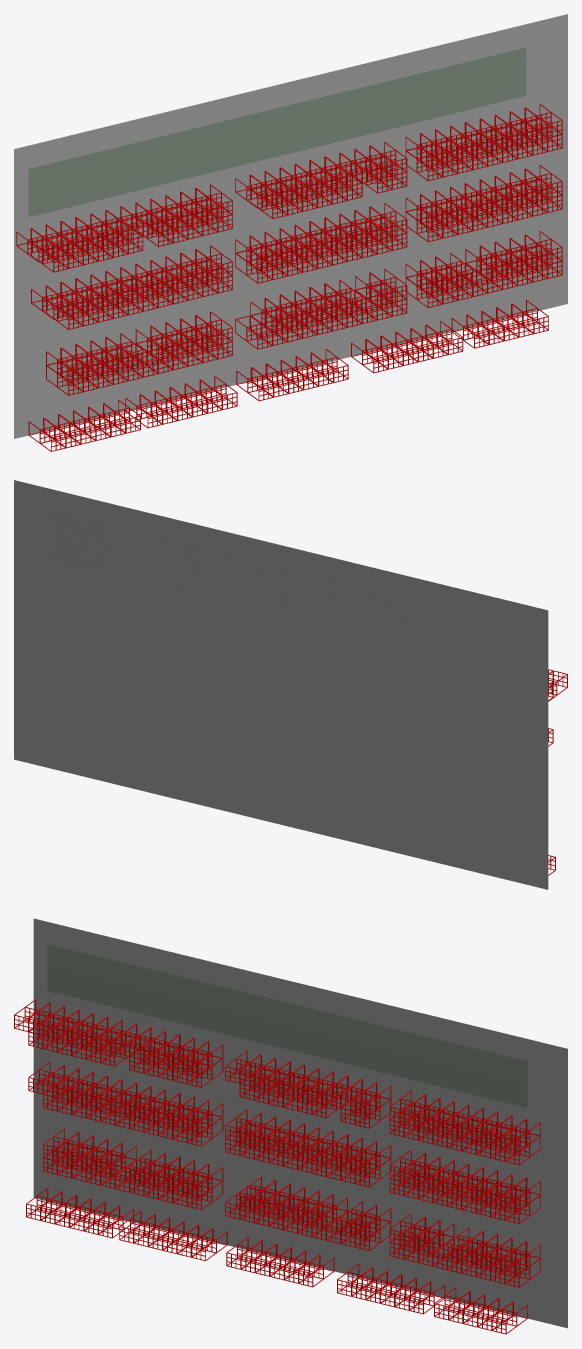
The model's file is your_model.glb.
3 renders of one model, top to bottom at view 1: azimuth 30°, elevation 25°; view 2: azimuth 150°, elevation 25°; view 3: azimuth 330°, elevation 25°, orthographic. The views are drawn at different scales.
Bounding box in the file's own units: 50000 × 25000 × 3535.
